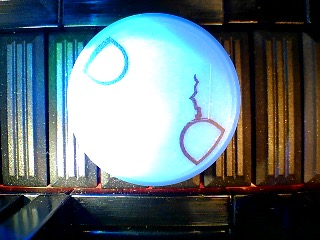CRACK: (66, 13, 242, 188)
